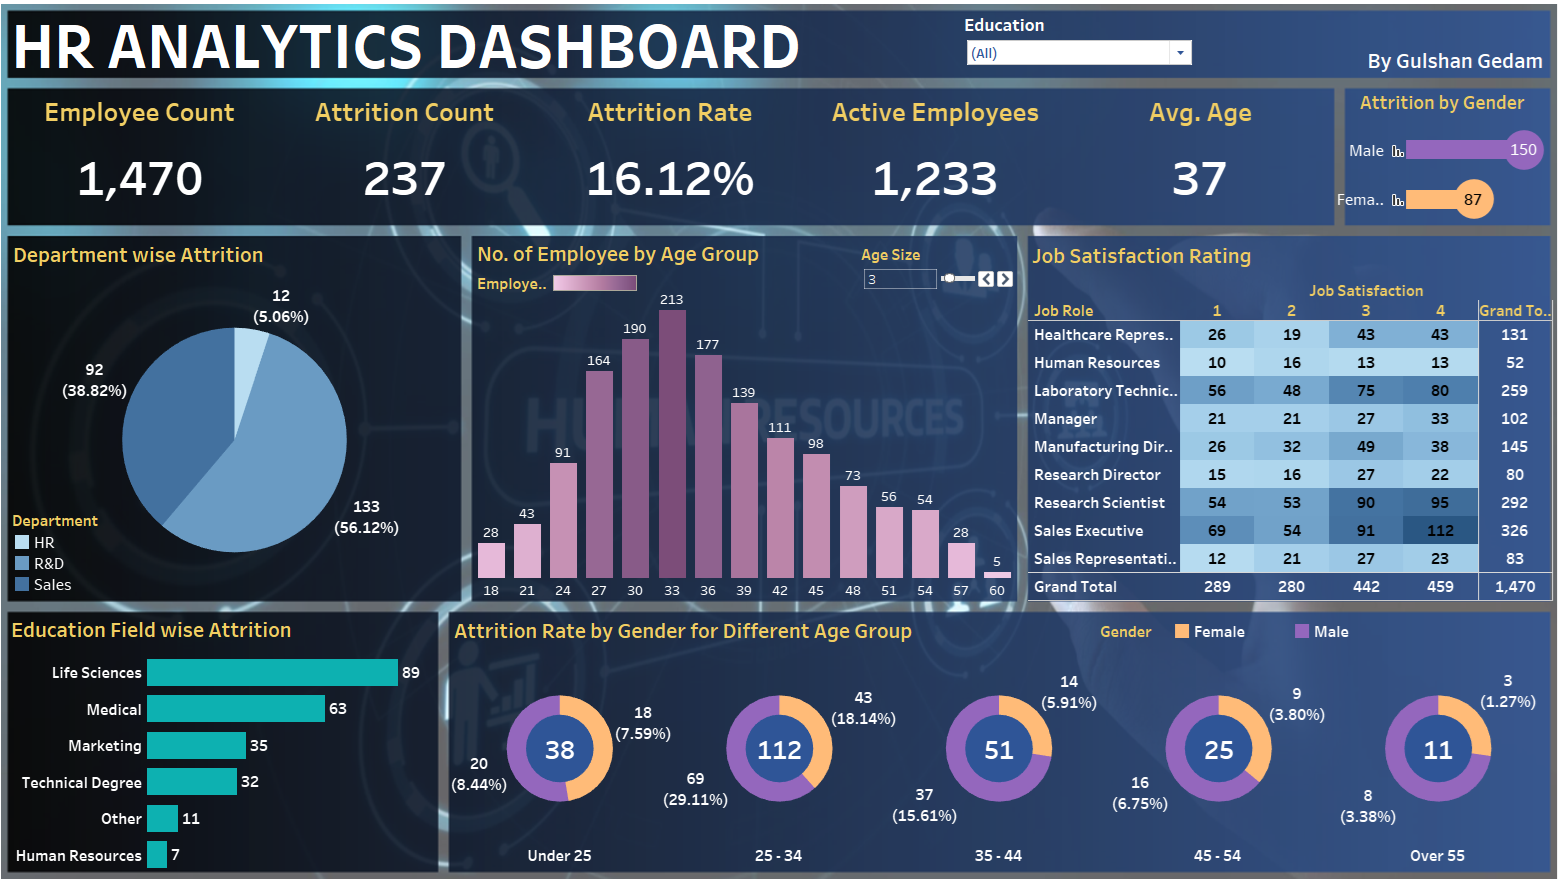

What the dashboard file says about the page in this screenshot:
{"tool":"tableau","page":{"name":"HR ANALYTICS DASHBOARD","canvas":[1600,900],"ordinal":0},"visuals":[{"type":"text","box":[16,14,878,59]},{"type":"filter","title":"Job Satisfaction Rating","param":"[federated.09jq2l305l5ek710d62rg1c83oco].[none:Education:nk]","box":[994,14,288,58]},{"type":"text","box":[1365,41,222,32]},{"type":"worksheet","title":"Atrrition by Gender","mark":"Bar","rows":["Gender"],"cols":["Attrition","Attrition"],"box":[1381,87,207,138]},{"type":"worksheet","title":"kpis","mark":"Automatic","box":[8,104,1362,122]},{"type":"worksheet","title":"Job Satisfaction Rating","mark":"Square","rows":["Job Role"],"cols":["Job Satisfaction"],"box":[1052,237,538,374]},{"type":"worksheet","title":"Department wise Attrition","mark":"Pie","box":[7,239,466,374]},{"type":"worksheet","title":"No of Employee by Age Group","mark":"Bar","rows":["emp no"],"cols":["Age (bin)"],"box":[484,239,560,376]},{"type":"parameter","param":"[Parameters].[Parameter 1]","box":[797,253,238,31]},{"type":"legend","title":"No of Employee by Age Group","param":"[federated.09jq2l305l5ek710d62rg1c83oco].[cnt:emp no:qk]","box":[888,301,140,82]},{"type":"legend","title":"Department wise Attrition","param":"[federated.09jq2l305l5ek710d62rg1c83oco].[none:Department:nk]","box":[16,510,140,85]},{"type":"worksheet","title":"Attrition Rate by Gender for different Age Group","mark":"Pie","rows":["Calculation_2728336983568261125","Calculation_2728336983568248835"],"cols":["CF_age band"],"box":[461,620,1127,269]},{"type":"worksheet","title":"Education Field with Attrition ","mark":"Automatic","rows":["Education Field"],"cols":["Calculation_2728336983590436871"],"box":[5,625,443,264]},{"type":"legend","title":"Attrition Rate by Gender for different Age Group","param":"[federated.09jq2l305l5ek710d62rg1c83oco].[none:Gender:nk]","box":[1089,639,401,38]}]}

Visuals, with their boxes in screenshot pixels (x1, y1, x2, y2), scaled from the page's 1600x900 canvas onto the 1558x880 screenshot:
text: crop(16, 14, 871, 71)
"Job Satisfaction Rating" filter: crop(968, 14, 1248, 70)
text: crop(1329, 40, 1545, 71)
"Atrrition by Gender" worksheet (Bar marks): crop(1345, 85, 1546, 220)
"kpis" worksheet: crop(8, 102, 1334, 221)
"Job Satisfaction Rating" worksheet (Square marks): crop(1024, 232, 1548, 597)
"Department wise Attrition" worksheet (Pie marks): crop(7, 234, 461, 599)
"No of Employee by Age Group" worksheet (Bar marks): crop(471, 234, 1017, 601)
parameter: crop(776, 247, 1008, 278)
"No of Employee by Age Group" legend: crop(865, 294, 1001, 374)
"Department wise Attrition" legend: crop(16, 499, 152, 582)
"Attrition Rate by Gender for different Age Group" worksheet (Pie marks): crop(449, 606, 1546, 869)
"Education Field with Attrition " worksheet: crop(5, 611, 436, 869)
"Attrition Rate by Gender for different Age Group" legend: crop(1060, 625, 1451, 662)
